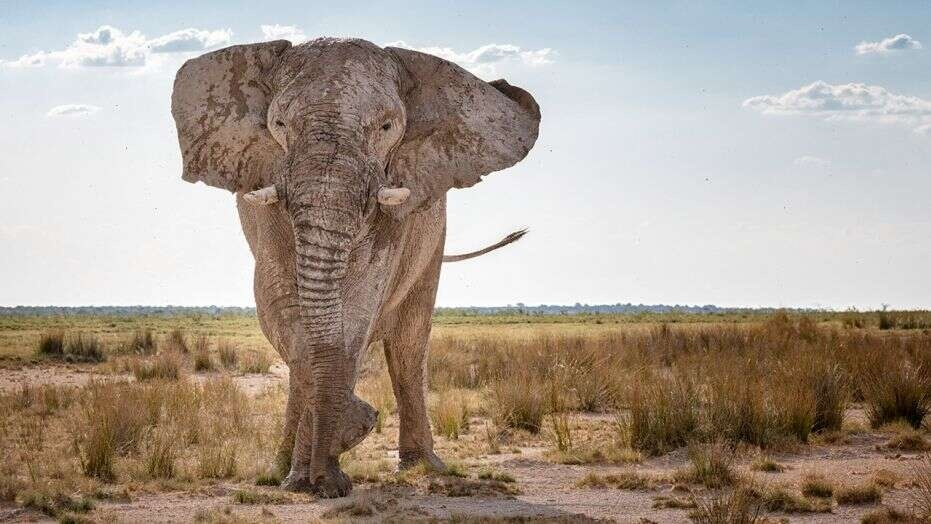elephant: (168, 33, 542, 497)
